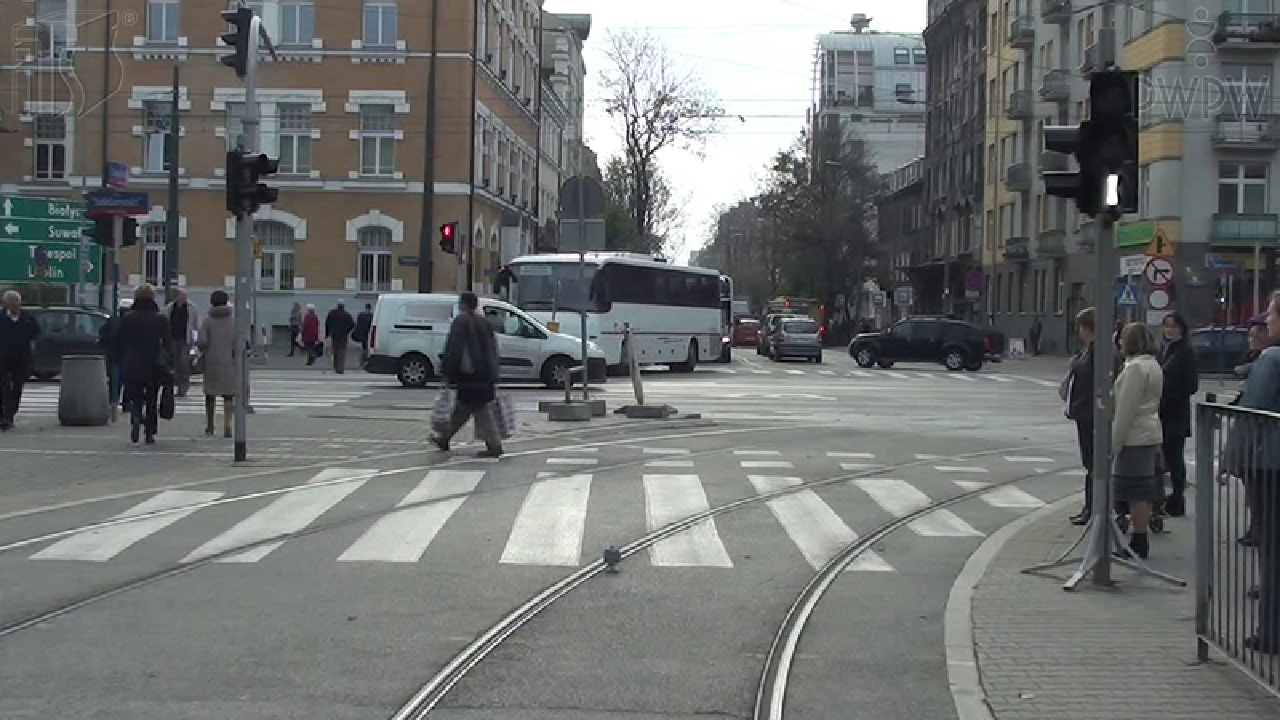A6b: (1142, 224, 1180, 257)
B22: (1141, 258, 1176, 285)
